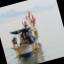fishing boat: (1, 8, 46, 63)
